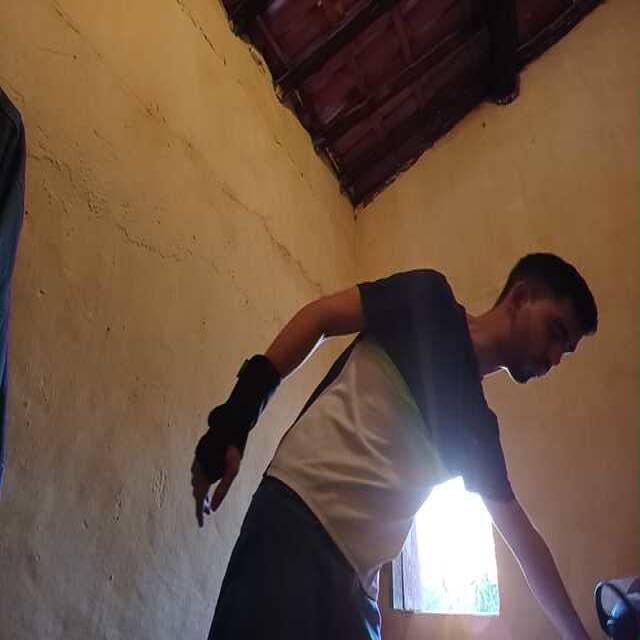capacete: (582, 546, 639, 640)
pessoa: (204, 250, 590, 640)
